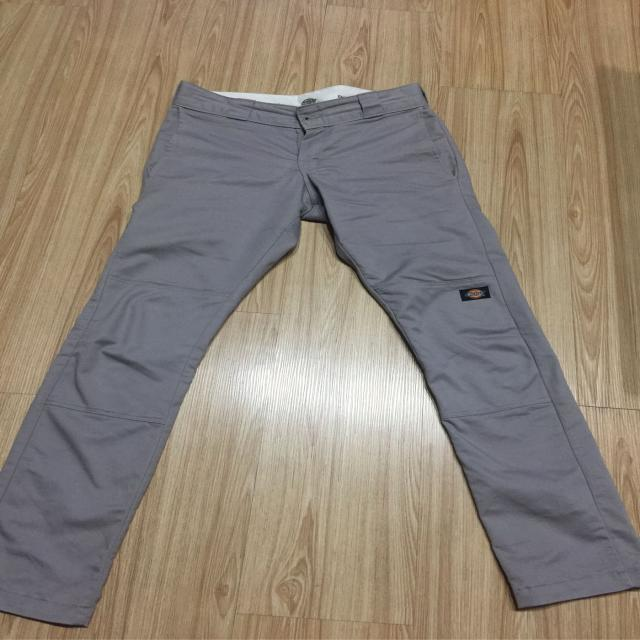long-pants: (1, 76, 640, 627)
